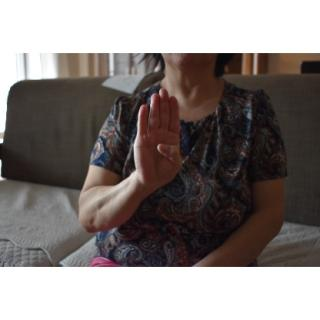KAAF: (130, 84, 188, 190)
